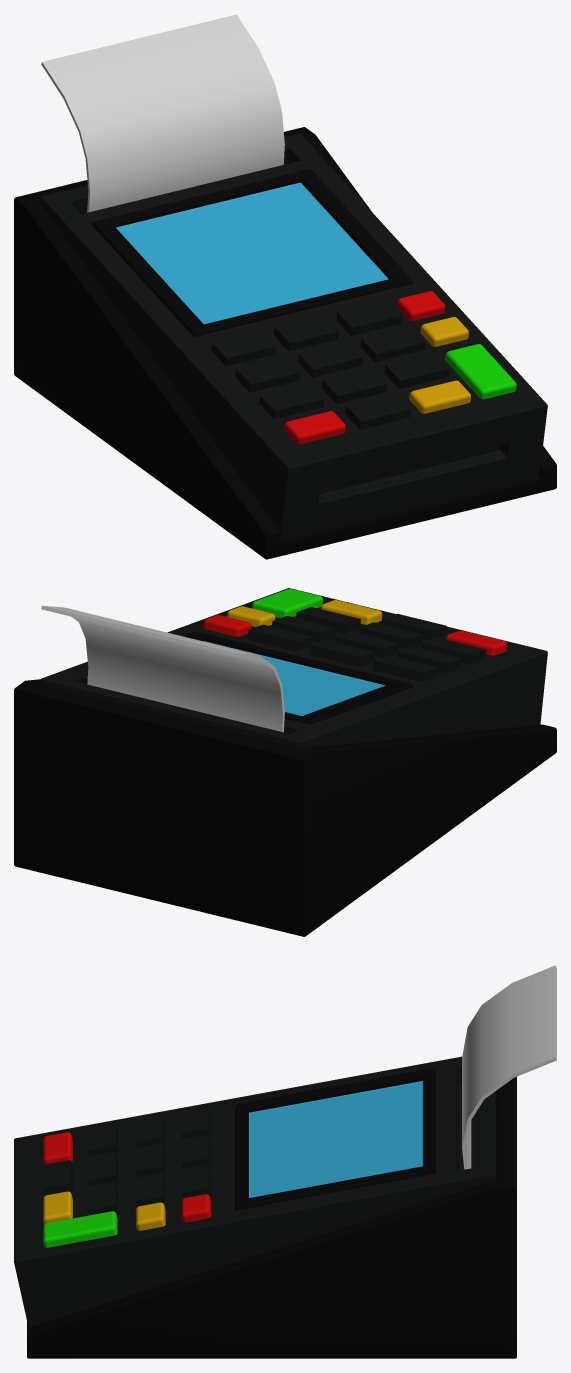
The model's file is cash-pay.mtl.obj.
The picture shows the model from 3 angles, top to bottom: view 1: azimuth 30°, elevation 25°; view 2: azimuth 150°, elevation 25°; view 3: azimuth 270°, elevation 25°; orthographic projection. The views are drawn at different scales.
Visible parts, largest first — view 1: POS; view 2: POS; view 3: POS.
Part boxes in pixels (x1,y1,x2,y2): POS: (14, 14, 556, 559); POS: (14, 588, 556, 936); POS: (14, 965, 556, 1358).
Size of the model in its own units: 0.425 by 0.3998 by 0.7055.
